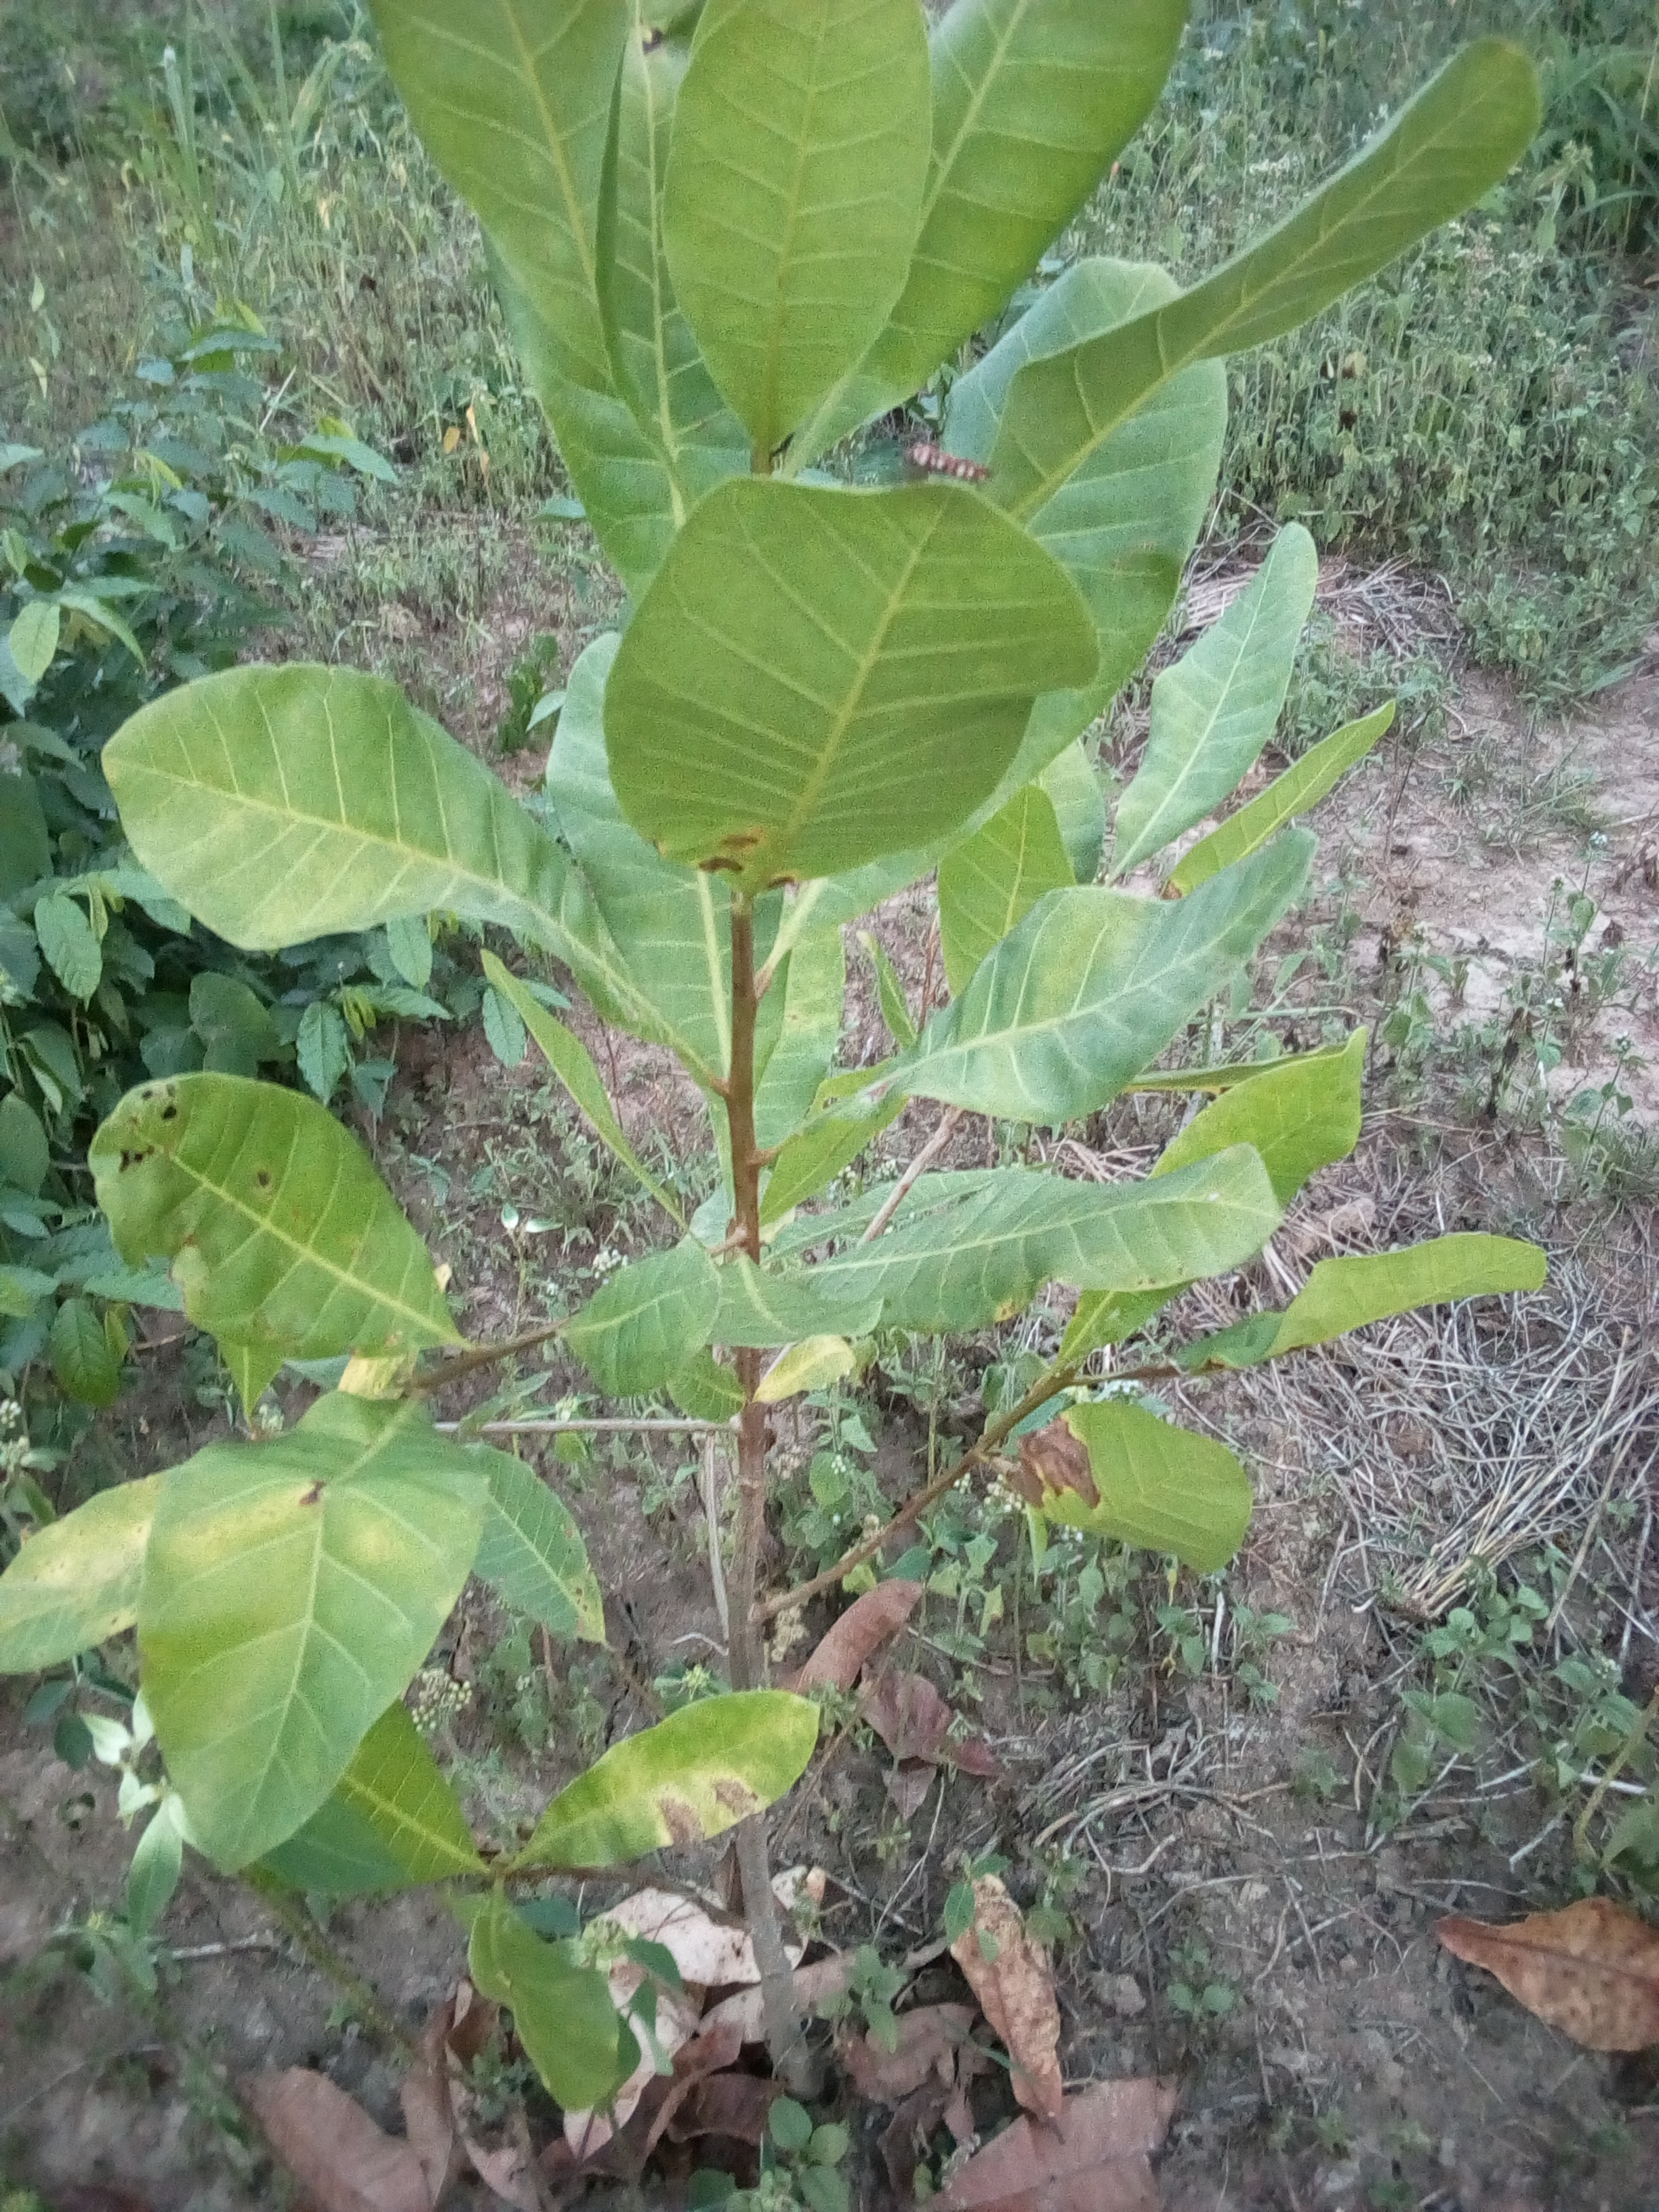Dysdercus wolkerii: (593, 455, 1124, 937)
